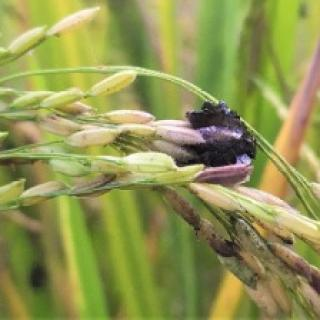Gosong-Palsu: (153, 98, 261, 168)
